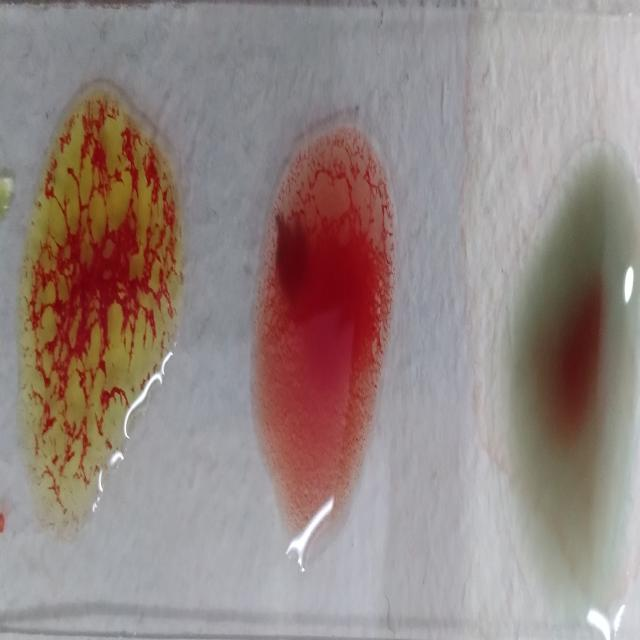B: (18, 82, 175, 534)
D: (256, 124, 390, 544)
